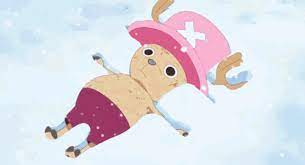chopper: (43, 1, 251, 160)
